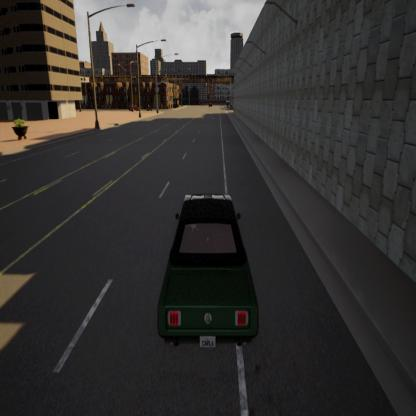Cars: (147, 163, 267, 376)
